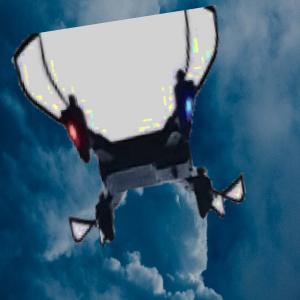drone: (24, 20, 252, 248)
